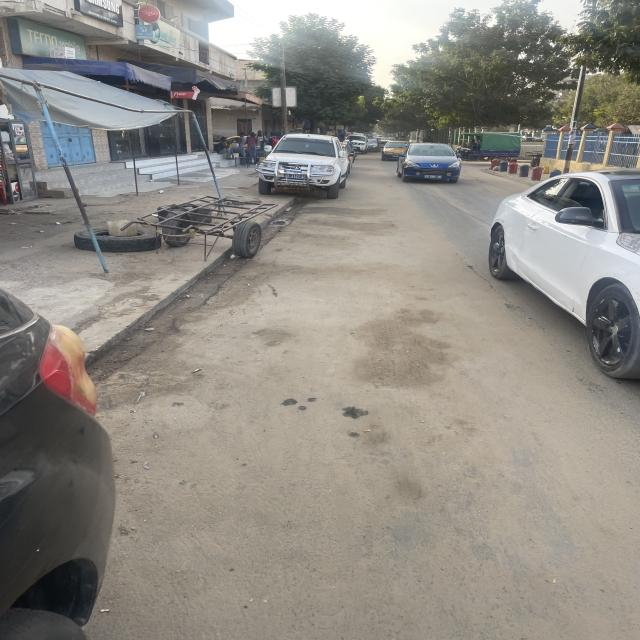moto tricycle: (461, 134, 521, 162)
particulier: (489, 170, 640, 380), (258, 135, 349, 200), (398, 144, 461, 184), (348, 135, 369, 155), (368, 139, 381, 154)
pousse pousse: (134, 197, 278, 261), (524, 151, 543, 169)
taxi: (383, 142, 408, 161), (343, 139, 359, 164)
